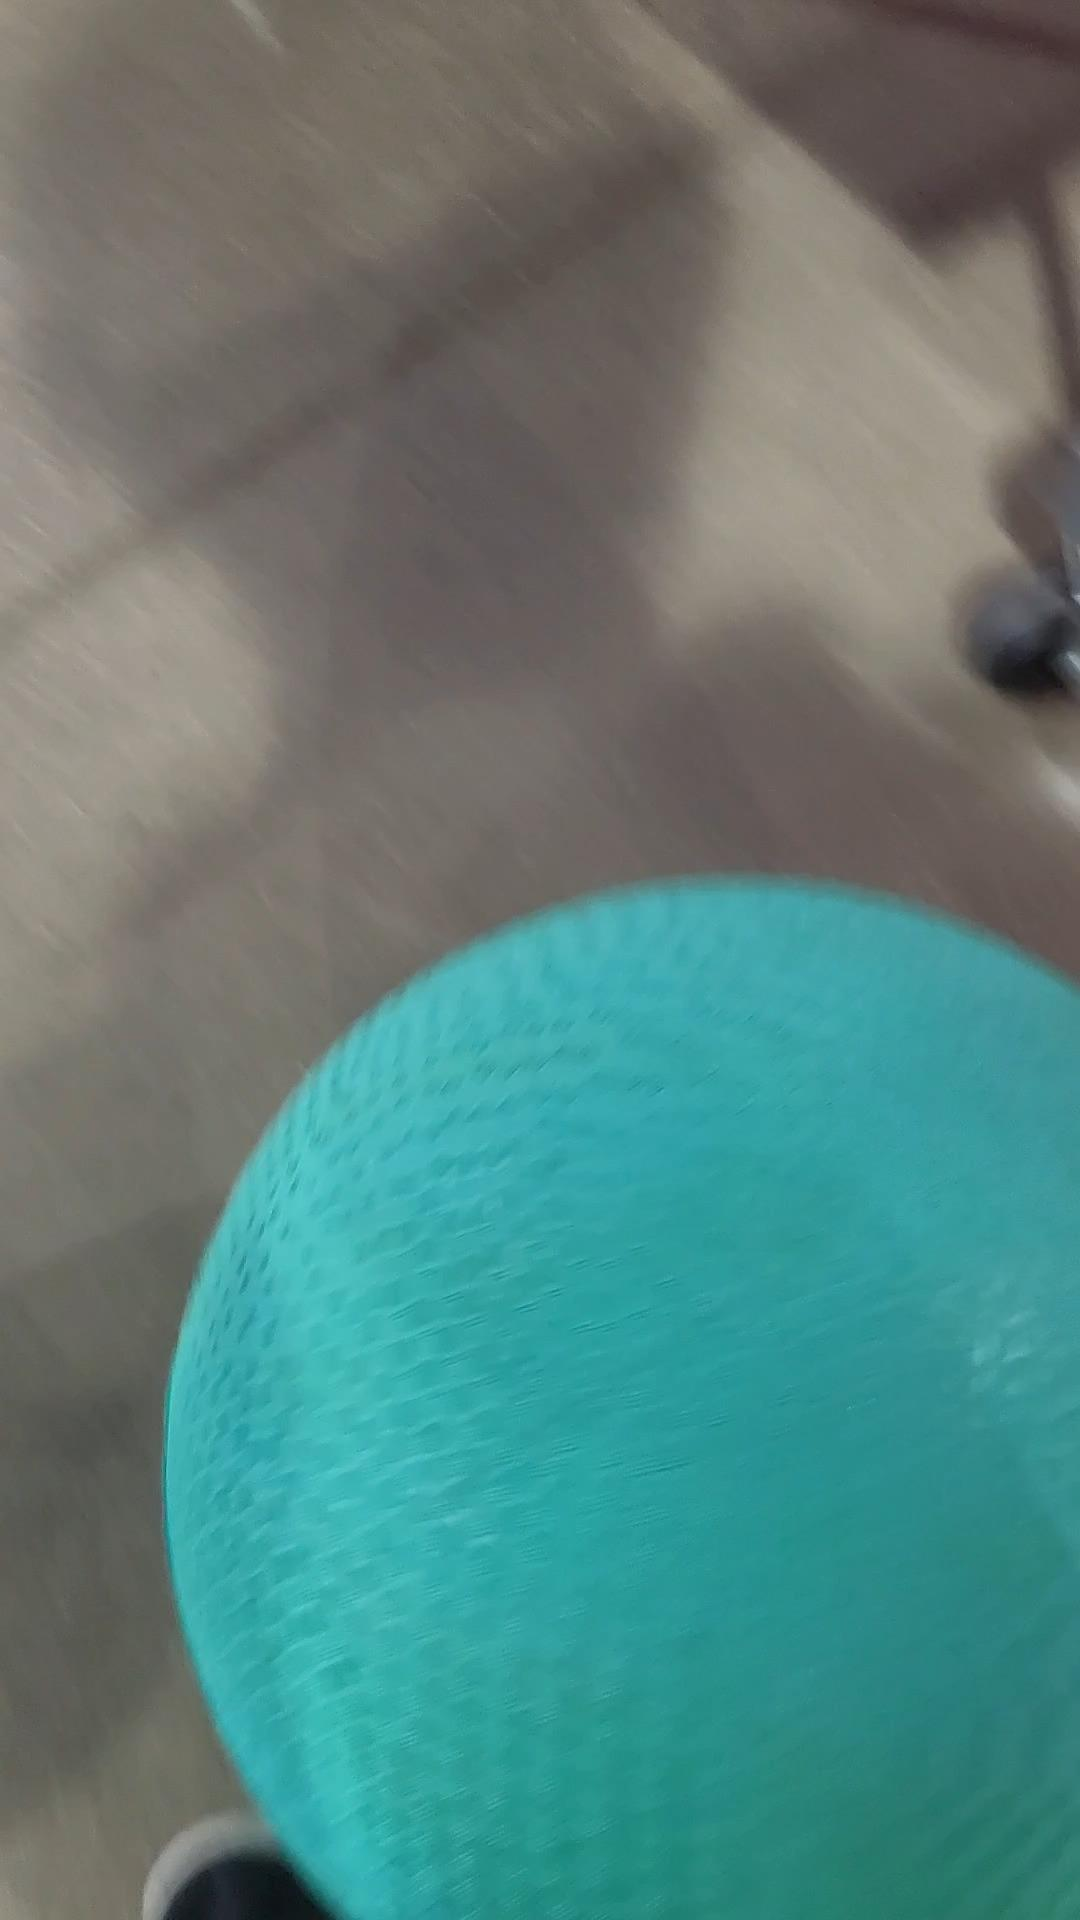algae: (150, 881, 1079, 1920)
